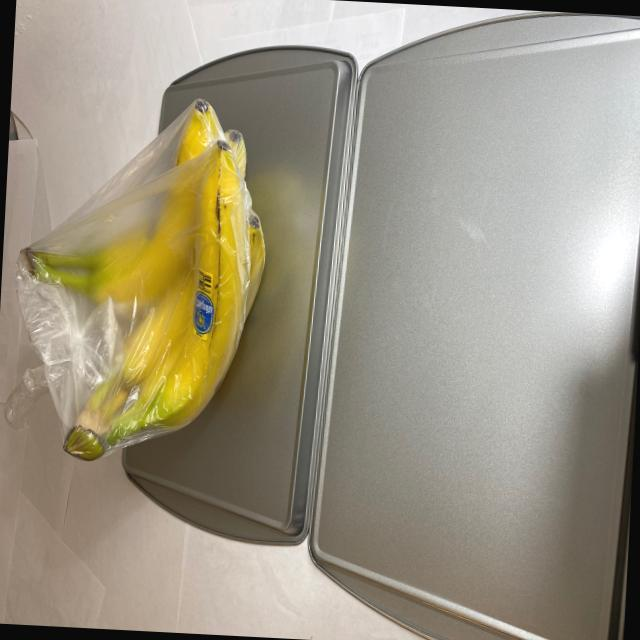banana: (9, 89, 278, 498)
